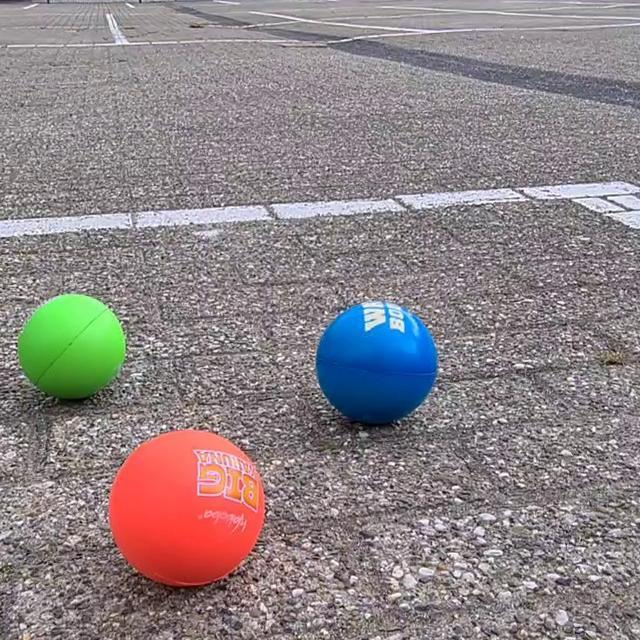ball: (314, 299, 442, 430), (15, 289, 130, 401)
